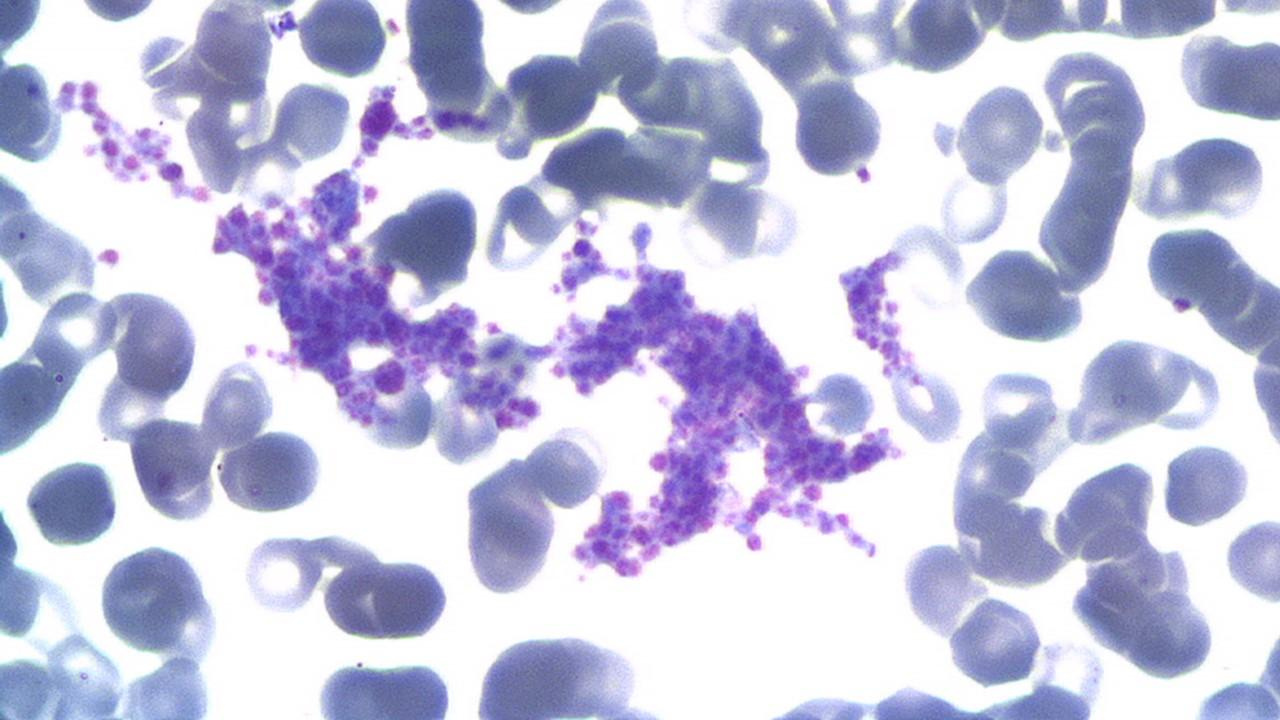Platelets: (930, 117, 962, 161), (628, 218, 658, 254), (368, 82, 398, 105), (851, 161, 877, 187)
RBC: (1064, 520, 1222, 688), (465, 626, 670, 716), (94, 539, 226, 659), (960, 243, 1096, 350), (102, 278, 207, 412), (1137, 217, 1261, 329), (213, 428, 330, 522), (790, 74, 889, 183), (128, 410, 220, 522), (501, 46, 604, 143), (954, 78, 1049, 183), (312, 654, 464, 719), (24, 454, 122, 550), (1169, 130, 1271, 222), (1170, 129, 1268, 223), (0, 48, 72, 170), (1157, 439, 1251, 530), (32, 286, 117, 377), (239, 528, 324, 618), (976, 364, 1061, 453), (369, 554, 453, 642), (1245, 275, 1280, 486), (296, 0, 387, 80), (1208, 31, 1280, 124), (936, 164, 1014, 248), (1222, 512, 1280, 610), (816, 0, 908, 35), (1254, 604, 1280, 719), (0, 493, 22, 594), (74, 0, 158, 26), (1212, 0, 1278, 21)
